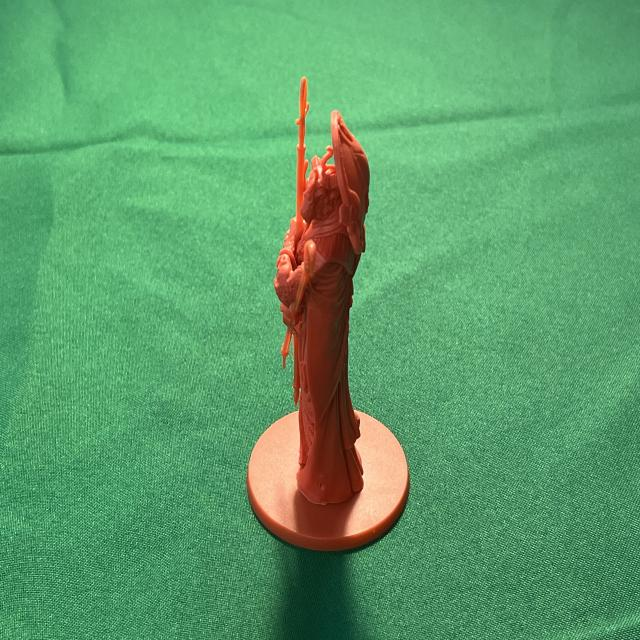amon: (239, 72, 413, 558)
